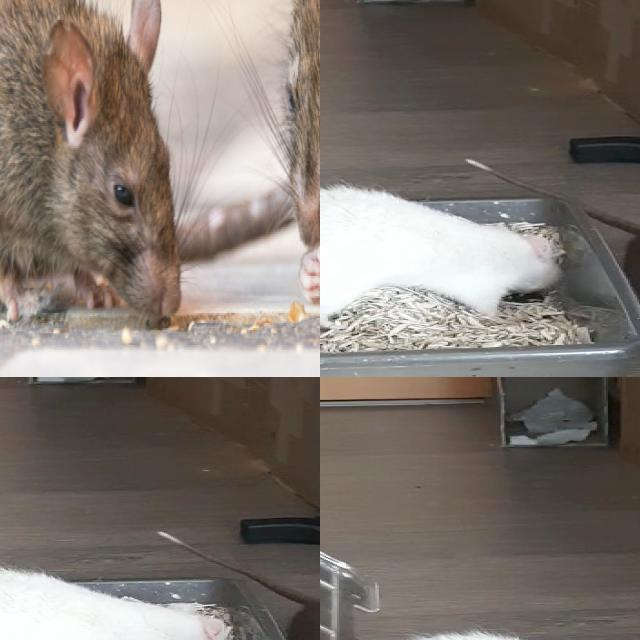rat: (0, 0, 184, 328), (320, 189, 563, 322), (0, 572, 239, 640)
